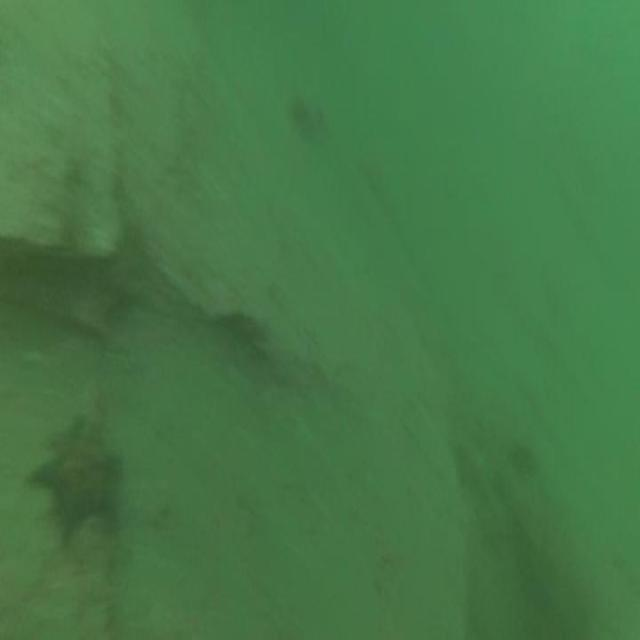echinus: (505, 436, 539, 482), (287, 94, 315, 134)
starfish: (26, 411, 124, 553)
